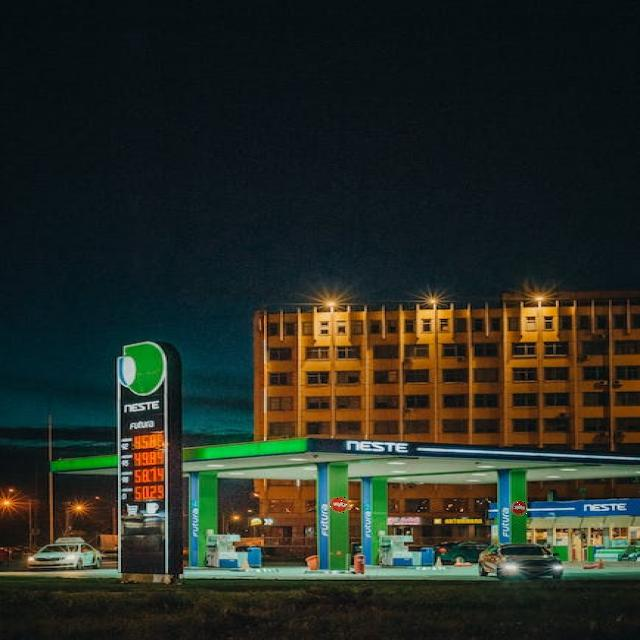no entry: (330, 497, 348, 514), (511, 501, 527, 515)
